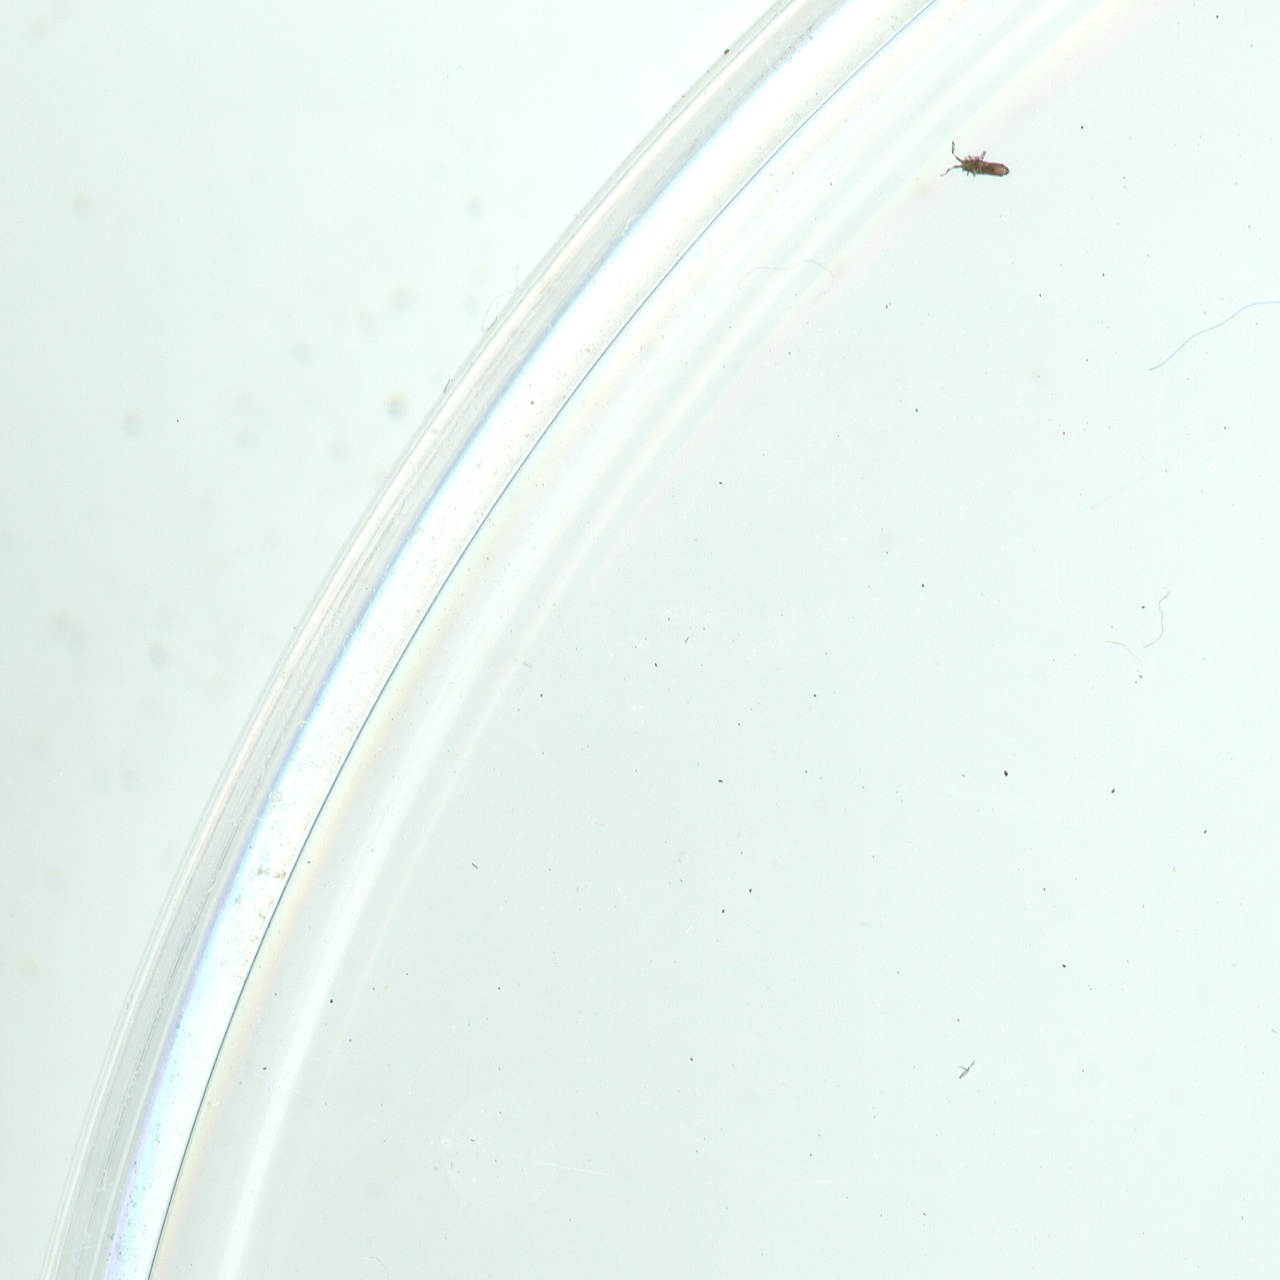arthropod: (935, 135, 1014, 191)
